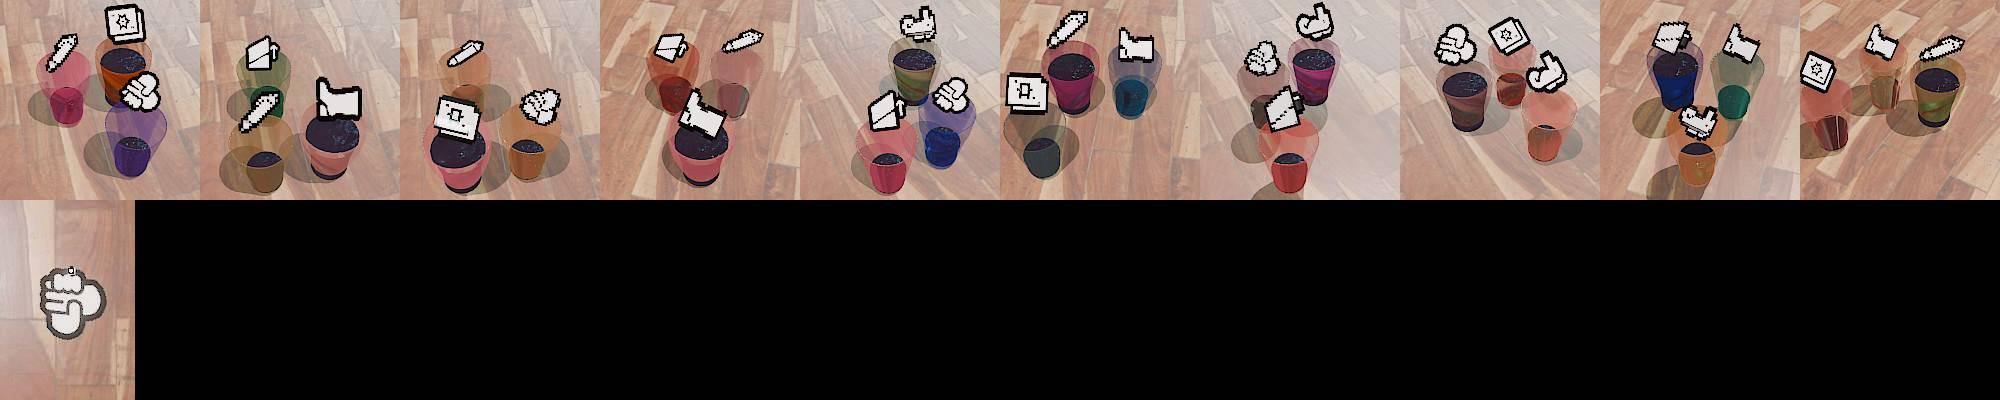icon: (36, 265, 107, 340), (678, 87, 728, 140), (432, 93, 482, 143), (315, 76, 362, 121), (1263, 84, 1305, 132), (238, 89, 282, 134), (1434, 23, 1478, 67), (1004, 72, 1048, 116), (1524, 49, 1567, 94), (1488, 16, 1531, 58), (1721, 22, 1762, 65), (1045, 9, 1089, 49), (120, 70, 161, 112), (103, 4, 144, 45), (1799, 50, 1837, 93), (868, 90, 906, 133), (1295, 1, 1334, 42), (519, 87, 562, 124), (898, 4, 937, 44), (1679, 101, 1719, 140), (1115, 26, 1156, 64), (1652, 19, 1692, 57), (932, 74, 970, 114), (1243, 39, 1281, 78), (1916, 34, 1964, 64), (1865, 23, 1900, 61), (46, 32, 78, 73), (245, 35, 279, 71), (446, 40, 486, 69), (720, 28, 764, 54), (653, 32, 688, 62)
